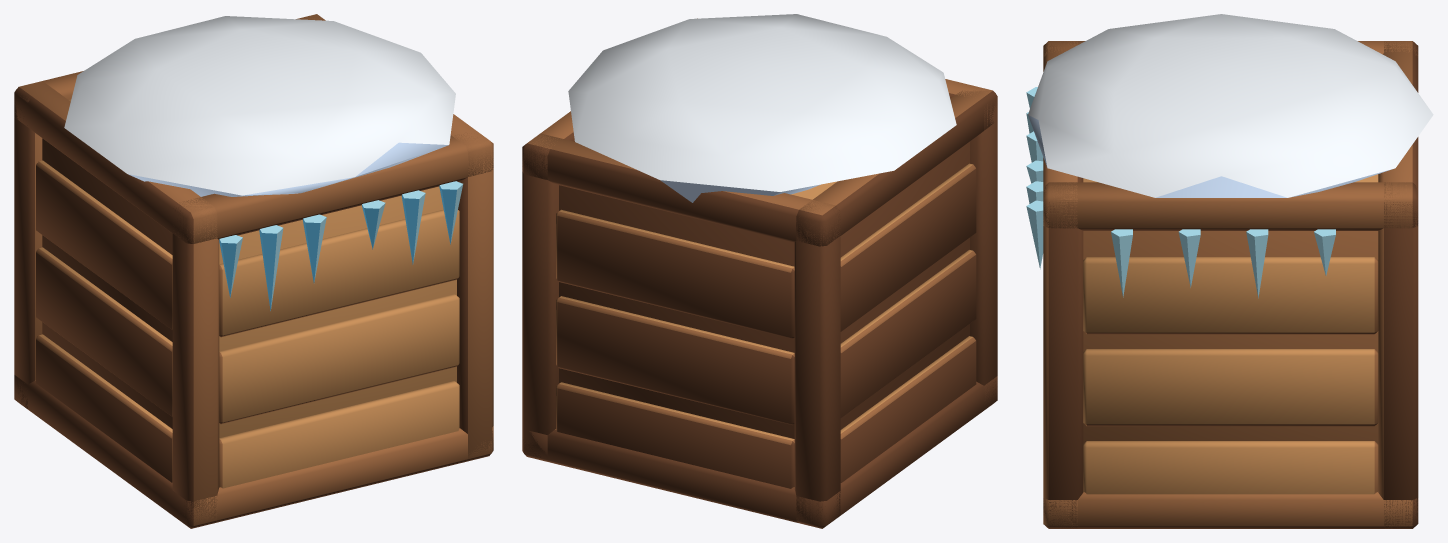
Rendered from SnowCrate.fbx.
3 renders of one model, left to right at view 1: azimuth 30°, elevation 25°; view 2: azimuth 150°, elevation 25°; view 3: azimuth 270°, elevation 25°, orthographic. The views are drawn at different scales.
Visible parts, largest first — view 1: SnowCrate; view 2: SnowCrate; view 3: SnowCrate.
Boxes of the visible parts, x1=… form: SnowCrate: x1=14, y1=14, x2=493, y2=528; SnowCrate: x1=522, y1=14, x2=997, y2=528; SnowCrate: x1=1026, y1=14, x2=1433, y2=528.
Size of the model in its own units: 1.31 by 1.38 by 1.33.
1 material, 1 textured.
